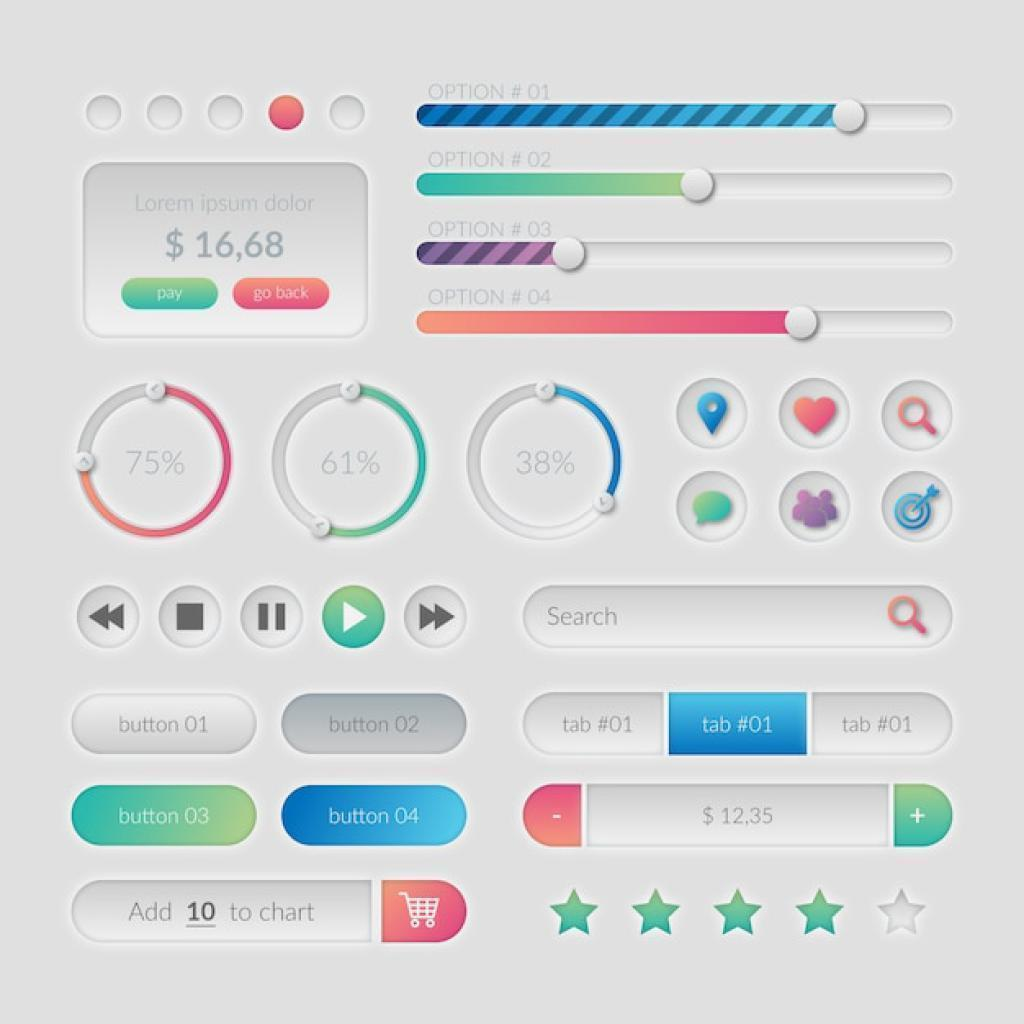button: (73, 880, 371, 941), (280, 786, 474, 851), (279, 690, 468, 754), (71, 786, 258, 847), (73, 694, 256, 754), (669, 693, 808, 758), (524, 693, 662, 755), (816, 693, 954, 754)
icon: (780, 469, 851, 545), (883, 376, 952, 454), (781, 376, 851, 448), (677, 379, 748, 447), (883, 473, 953, 541), (403, 583, 468, 653), (240, 584, 305, 651), (76, 582, 139, 649), (679, 471, 741, 536), (321, 586, 386, 648), (159, 586, 220, 649)
input: (521, 584, 954, 650), (586, 784, 887, 847)
